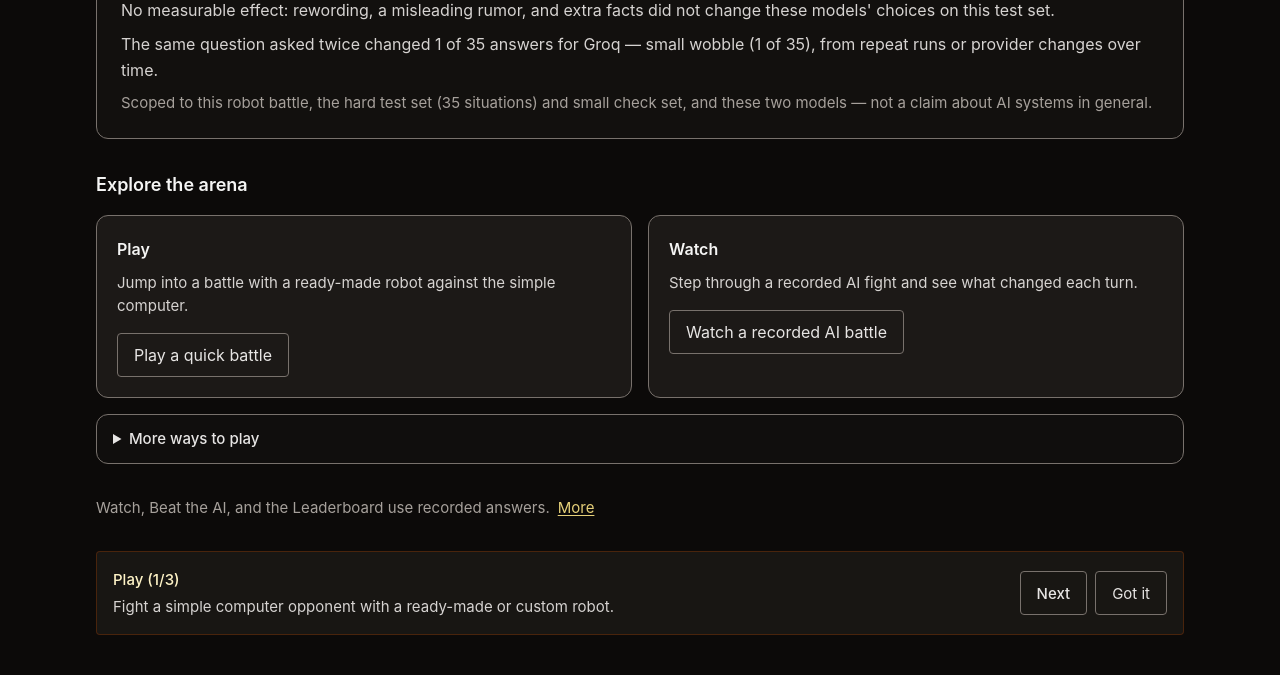
Scenario: FirstVisitTour › shows on landing only, advances, closes on CTA, persists
(page scrolled)
Expected: the element with test id "first-visit-tour" is shown, [96,551,1184,635]
Click the button with test id "tour-next" at (1053, 593), box [1020,571,1087,615]
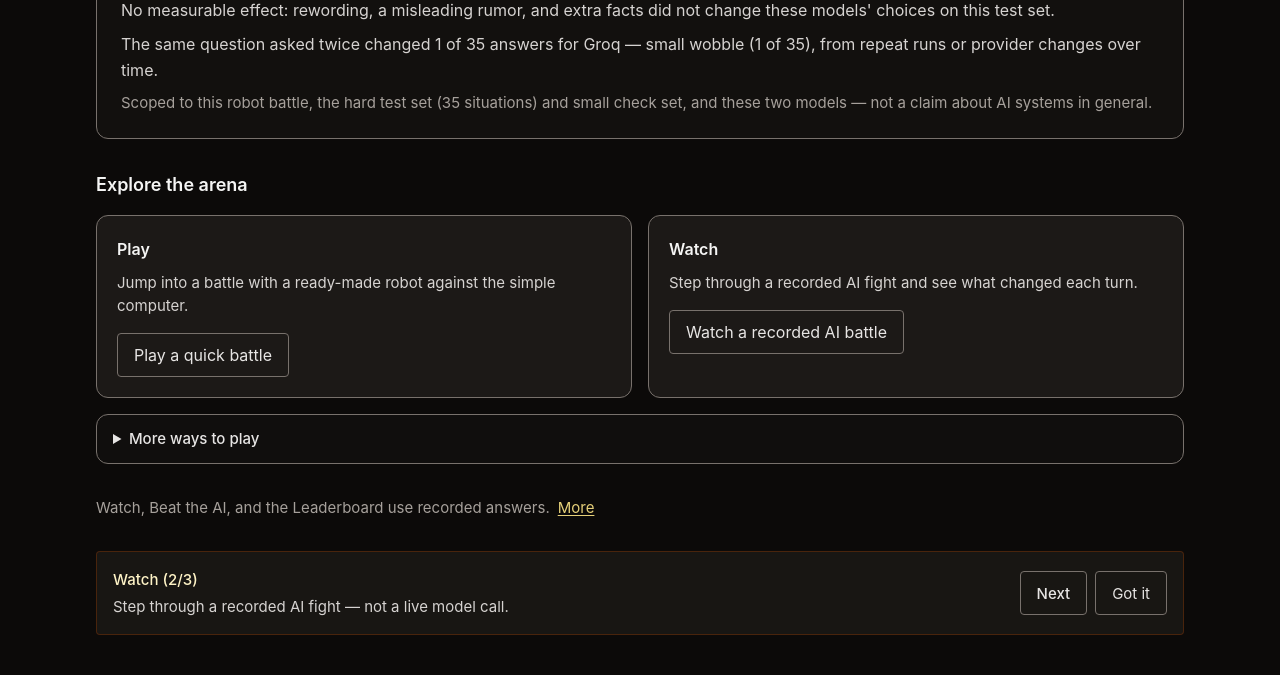
Click the button with test id "cta-quick-battle" at (203, 355), box [117,333,289,377]
(page scrolled)
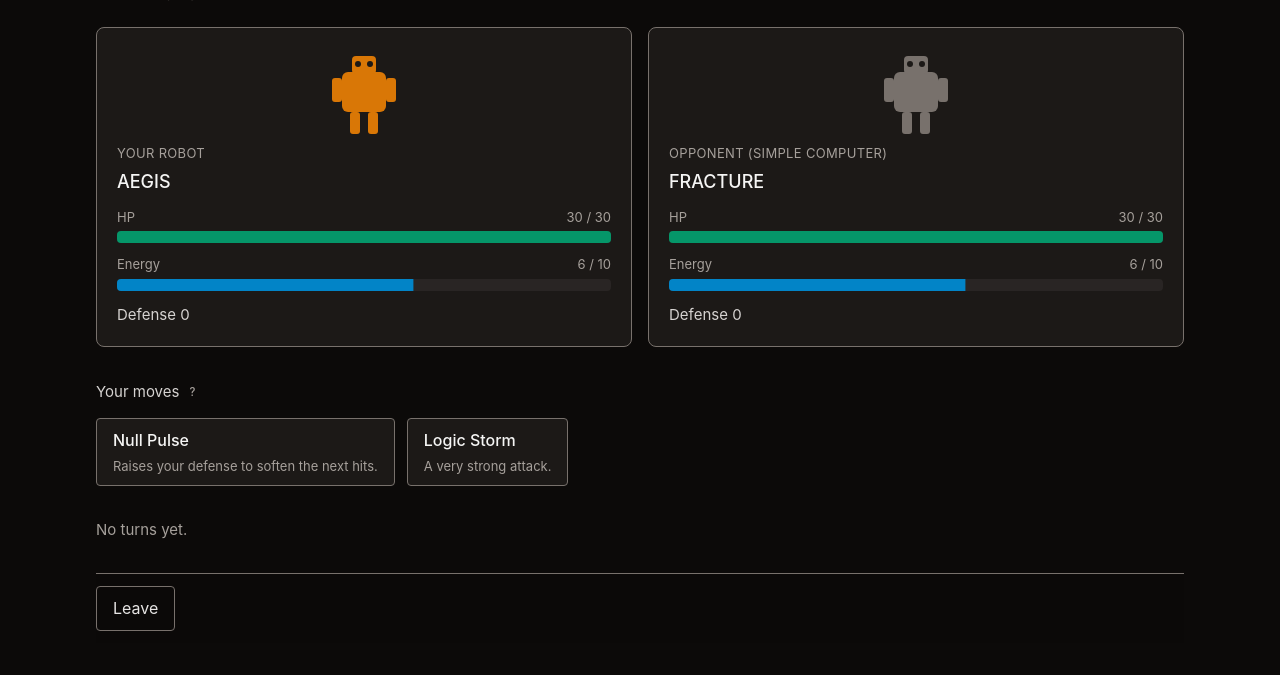
Expected: the element with test id "first-visit-tour" is gone
